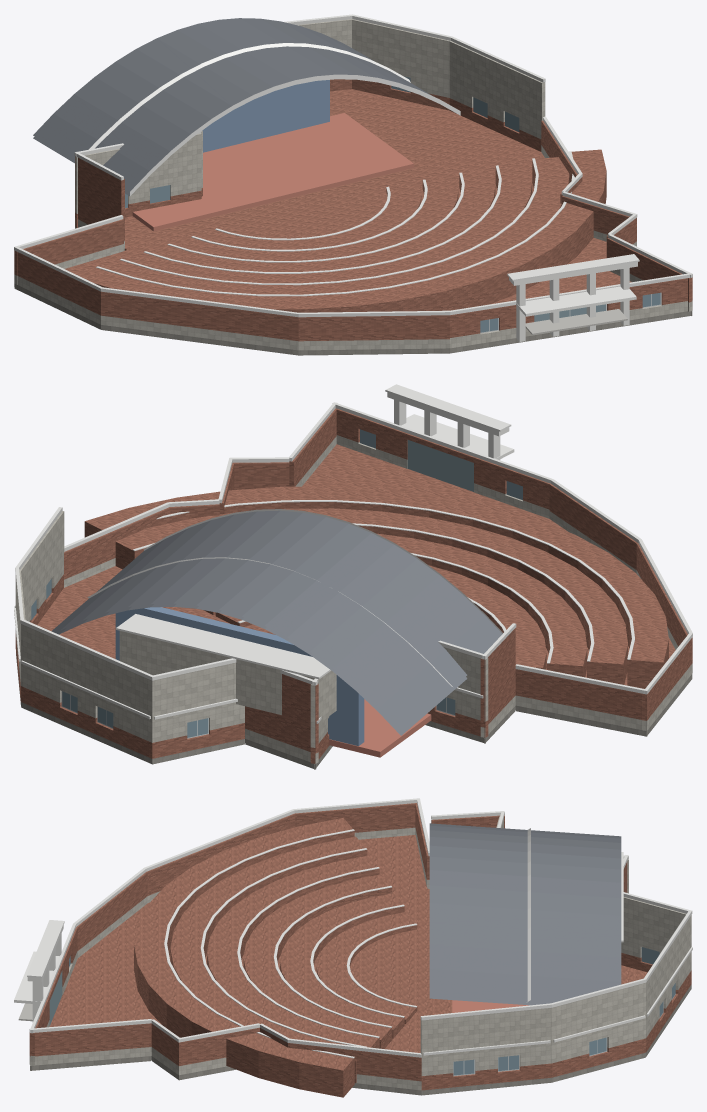
3 renders of one model, top to bottom at view 1: azimuth 30°, elevation 25°; view 2: azimuth 150°, elevation 25°; view 3: azimuth 270°, elevation 25°, orthographic. The views are drawn at different scales.
Visible parts, largest first — view 1: music__brick, music__archroof, music__stone, music__stagefloor, music__cap, music__trim, music__stagewall, music__portal, music__bluetrim, music__plinth, music__glass, music__threshold-south (+1 smaller); view 2: music__brick, music__archroof, music__stone, music__cap, music__trim, music__stagewall, music__portal, music__plinth, music__doorglass, music__stagefloor, music__glass, music__bluetrim (+1 smaller); view 3: music__brick, music__archroof, music__stone, music__cap, music__trim, music__plinth, music__portal, music__glass, music__foundation, music__bluetrim, music__stagefloor.
Boxes of the visible parts, x1=… form: music__brick: x1=14, y1=79, x2=692, y2=341; music__archroof: x1=33, y1=18, x2=431, y2=196; music__stone: x1=14, y1=19, x2=692, y2=350; music__stagefloor: x1=132, y1=113, x2=413, y2=231; music__cap: x1=14, y1=14, x2=692, y2=317; music__trim: x1=96, y1=151, x2=574, y2=296; music__stagewall: x1=202, y1=80, x2=329, y2=152; music__portal: x1=509, y1=262, x2=637, y2=341; music__bluetrim: x1=89, y1=43, x2=460, y2=195; music__plinth: x1=14, y1=227, x2=690, y2=354; music__glass: x1=125, y1=76, x2=660, y2=332; music__threshold-south: x1=525, y1=309, x2=627, y2=335; music__brick: x1=15, y1=408, x2=692, y2=763; music__archroof: x1=51, y1=510, x2=502, y2=735; music__stone: x1=15, y1=435, x2=692, y2=763; music__cap: x1=15, y1=384, x2=692, y2=694; music__trim: x1=14, y1=500, x2=634, y2=723; music__stagewall: x1=115, y1=607, x2=364, y2=746; music__portal: x1=387, y1=392, x2=514, y2=460; music__plinth: x1=16, y1=653, x2=692, y2=767; music__doorglass: x1=407, y1=440, x2=473, y2=491; music__stagefloor: x1=329, y1=699, x2=431, y2=757; music__glass: x1=31, y1=429, x2=522, y2=737; music__bluetrim: x1=87, y1=509, x2=502, y2=686; music__brick: x1=29, y1=803, x2=691, y2=1097; music__archroof: x1=429, y1=823, x2=621, y2=1005; music__stone: x1=29, y1=816, x2=691, y2=1090; music__cap: x1=27, y1=798, x2=692, y2=1057; music__trim: x1=164, y1=829, x2=692, y2=1058; music__plinth: x1=30, y1=984, x2=691, y2=1094; music__portal: x1=14, y1=925, x2=63, y2=1022; music__glass: x1=41, y1=947, x2=675, y2=1075; music__foundation: x1=30, y1=988, x2=691, y2=1095; music__bluetrim: x1=526, y1=828, x2=530, y2=1002; music__stagefloor: x1=452, y1=1000, x2=528, y2=1012.
Size of the model in its own units: 54.8 by 12.88 by 59.5.
Materials: 16 (5 with a texture image).
